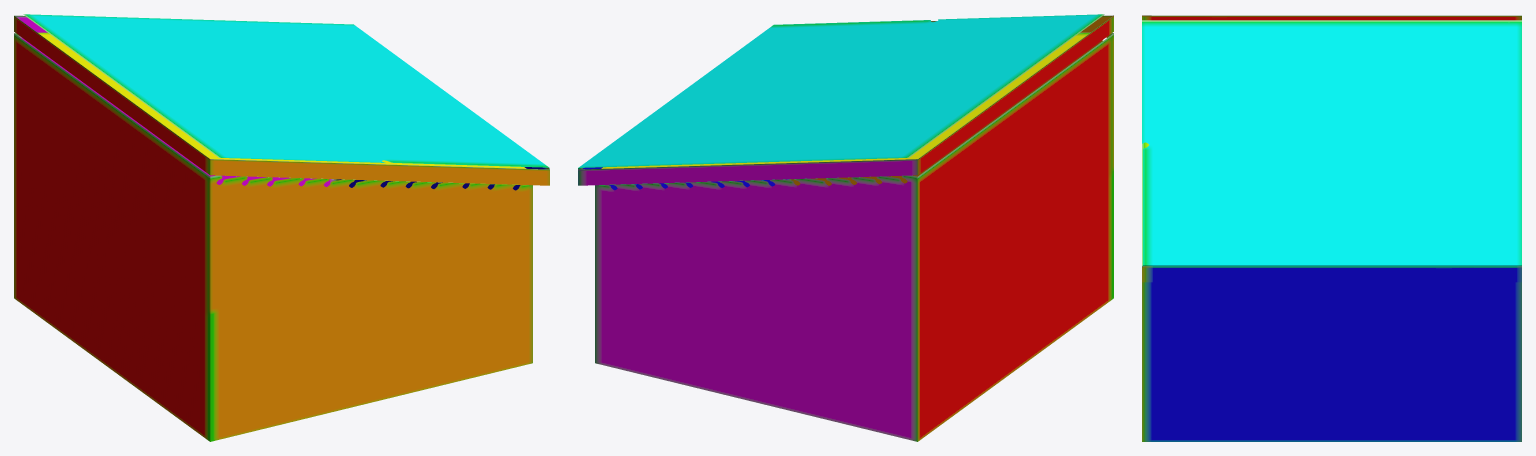
The model's file is house08_02.FBX.
3 renders of one model, left to right at view 1: azimuth 30°, elevation 25°; view 2: azimuth 150°, elevation 25°; view 3: azimuth 270°, elevation 25°, orthographic. The views are drawn at different scales.
Visible parts, largest first — view 1: House08_base, House08_roof; view 2: House08_base, House08_roof; view 3: House08_roof, House08_base.
Part boxes in pixels (bbox=[...]): House08_base: bbox=[14, 33, 532, 441]; House08_roof: bbox=[14, 14, 549, 185]; House08_base: bbox=[595, 33, 1113, 441]; House08_roof: bbox=[578, 14, 1113, 185]; House08_roof: bbox=[1142, 15, 1521, 282]; House08_base: bbox=[1142, 282, 1521, 441].
Size of the model in its own units: 100 by 80 by 100.
1 material, 1 textured.
